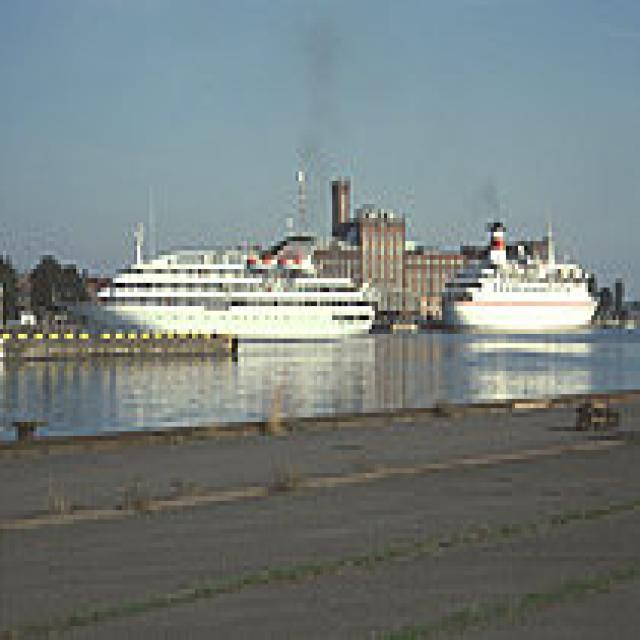Cruise: (58, 214, 375, 338), (433, 213, 597, 329)
